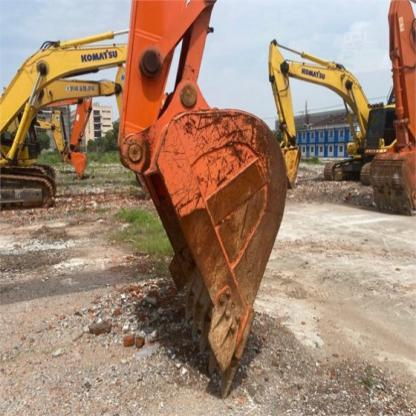excavator: (112, 6, 296, 399)
